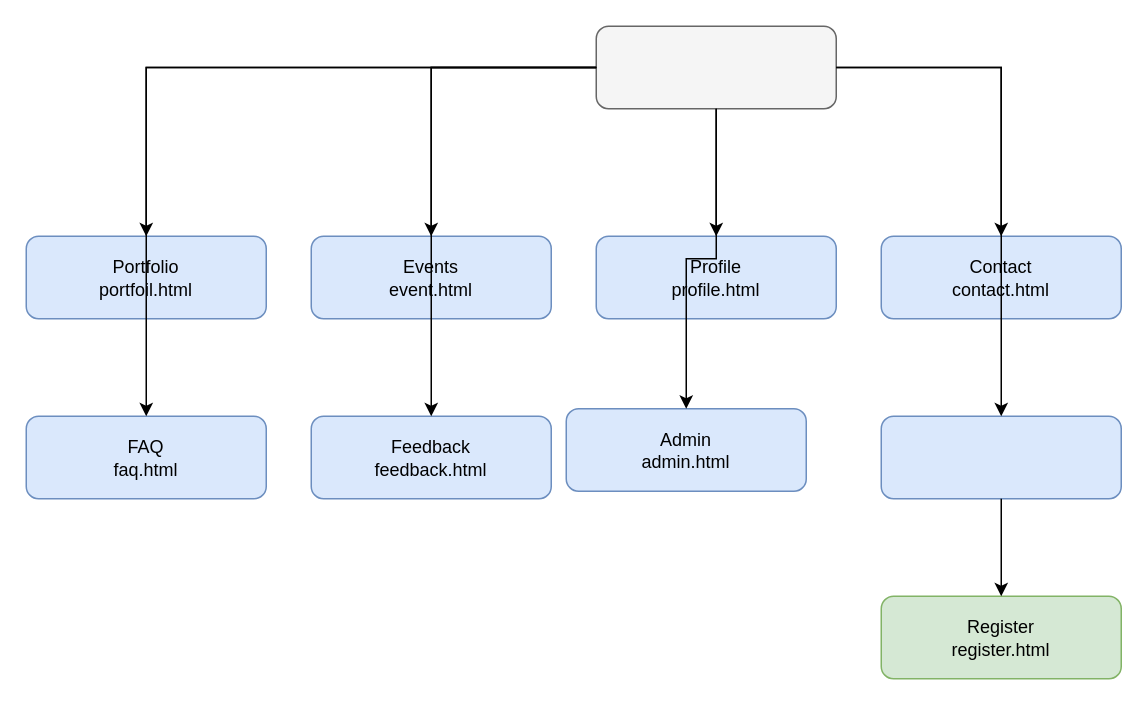
The diagram is 1148 pixels wide and 705 high, and some of its shapes have lost their labels. The shapes that lost their labels are listed below. From the top down, each one's centre as x and y in pixels, then its label:
At (715,67): "Home index.html".
At (1000,457): "Login login.html".
